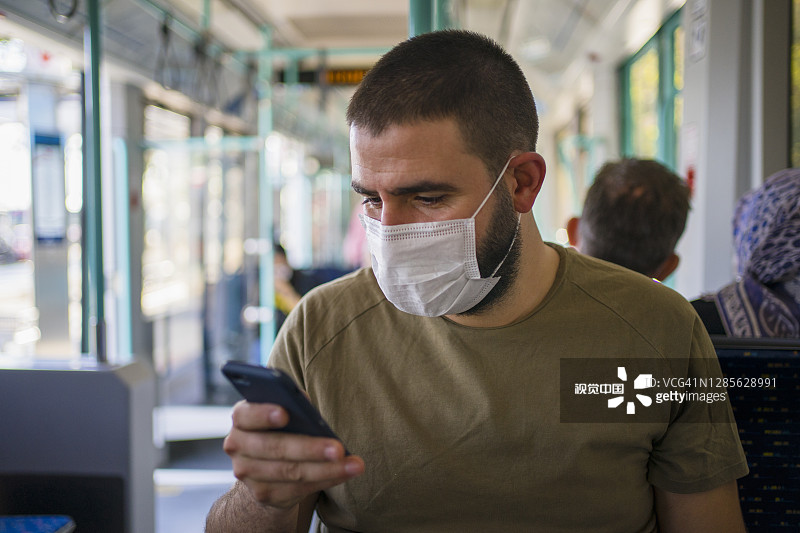reading: (192, 347, 372, 522)
